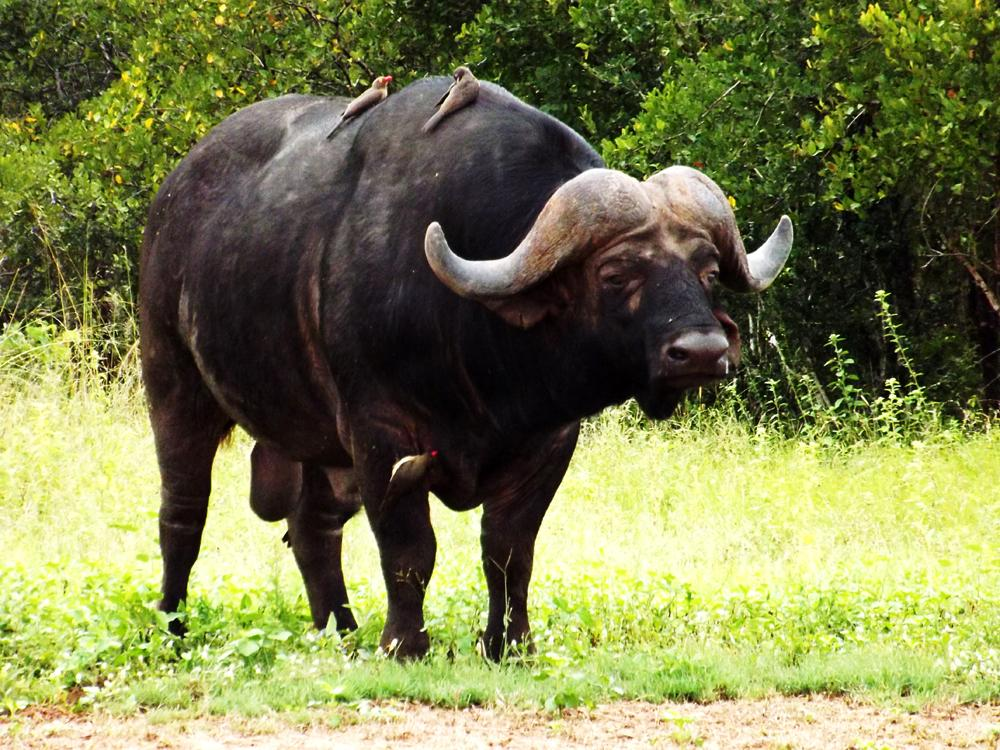Buffalo: (16, 9, 868, 750)
